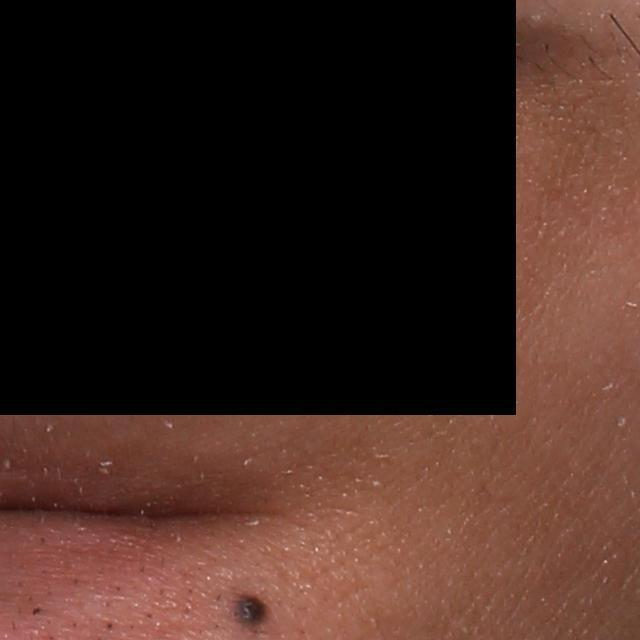nevus: (231, 589, 276, 629)
